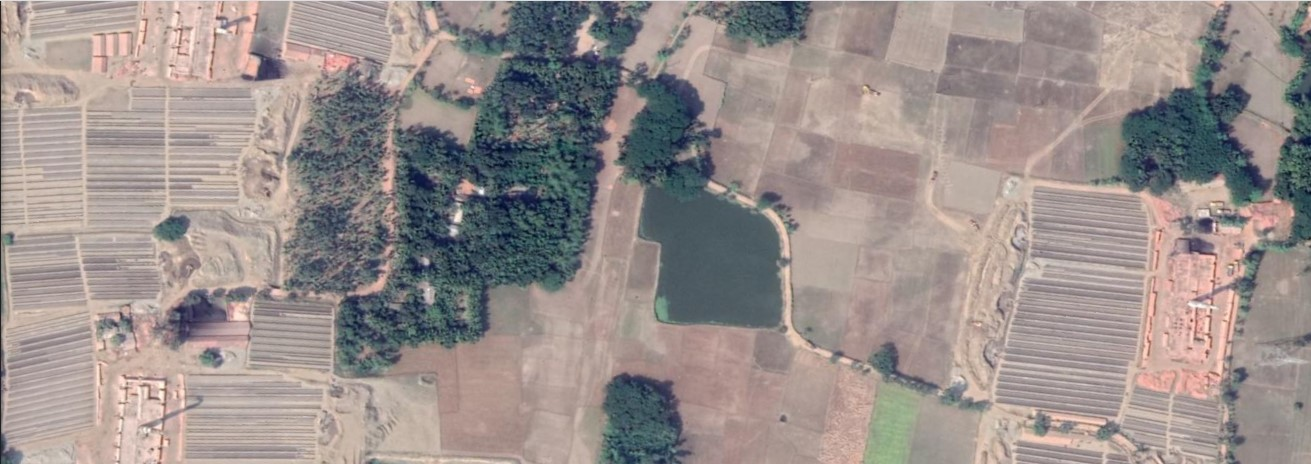kiln: (1147, 226, 1238, 384), (110, 366, 187, 464), (168, 4, 257, 75)
